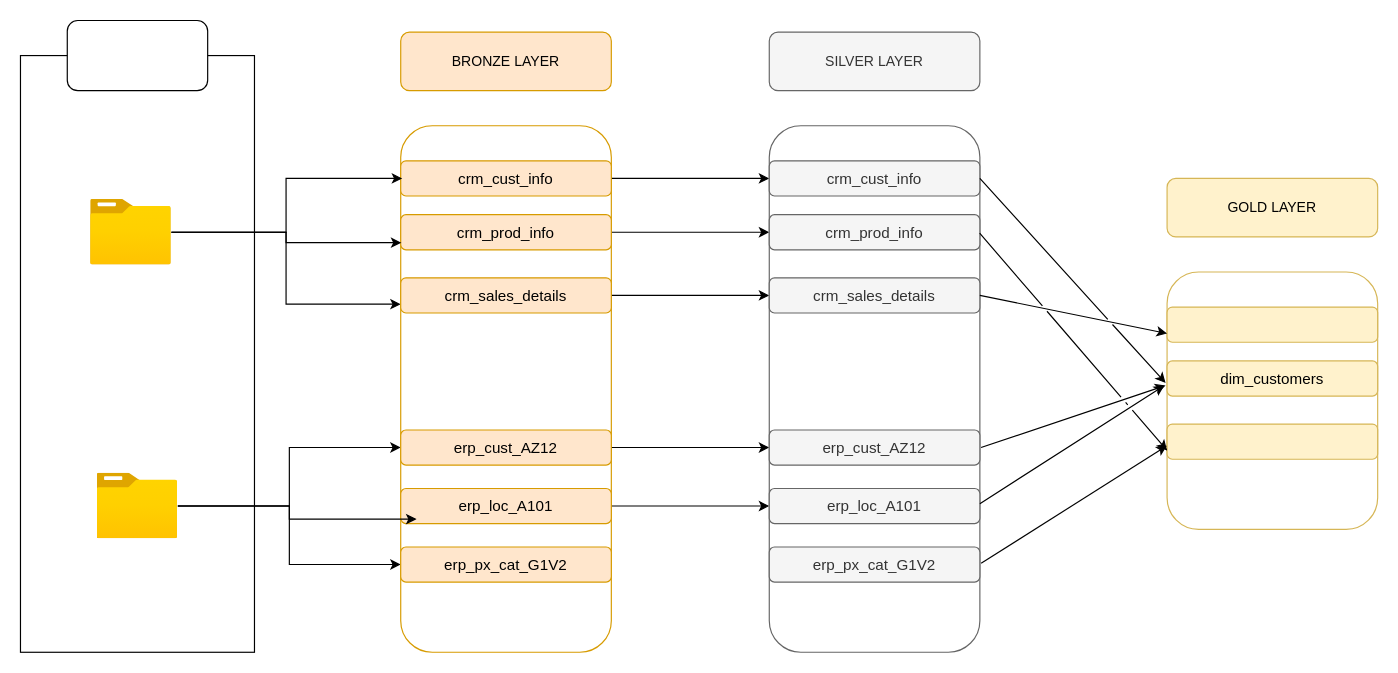
The diagram is 1398 pixels wide and 673 high, and some of its shapes have lost their labels. Here are the shapes that lost their labels. From the top down, the centre of each, then its label:
At point (137, 55): "Source system".
At point (130, 231): "CRM".
At point (1272, 324): "fact_sales".
At point (1272, 441): "dim_products".
At point (137, 505): "ERP".
